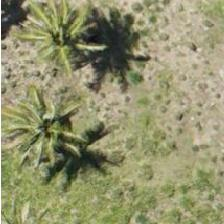coconut_tree: (5, 80, 95, 170), (18, 0, 108, 80)
